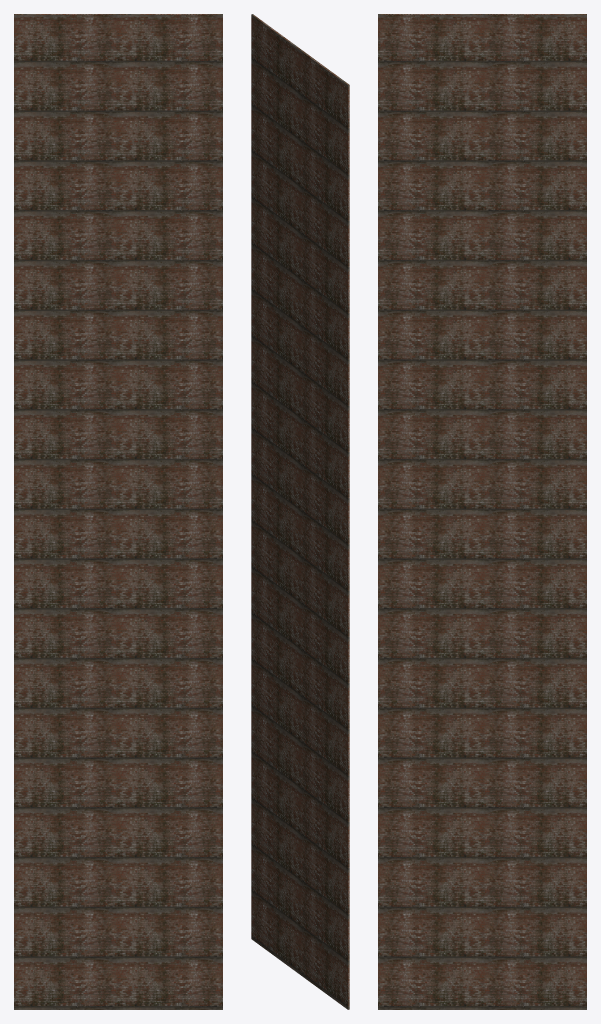
File: tunnel_Wall_Huge2_GEO.fbx
3 views of the same model, side by side, from view 1: azimuth 90°, elevation 25°; view 2: azimuth 210°, elevation 25°; view 3: azimuth 270°, elevation 25° (orthographic). The views are drawn at different scales.
Visible parts, largest first — view 1: tunnel_Wall_Huge2_GEO; view 2: tunnel_Wall_Huge2_GEO; view 3: tunnel_Wall_Huge2_GEO.
Boxes of the visible parts, x1=… form: tunnel_Wall_Huge2_GEO: x1=14, y1=14, x2=222, y2=1009; tunnel_Wall_Huge2_GEO: x1=251, y1=14, x2=349, y2=1009; tunnel_Wall_Huge2_GEO: x1=378, y1=14, x2=586, y2=1009.
Bounding box in the file's own units: 0.1999 × 105 × 20.
